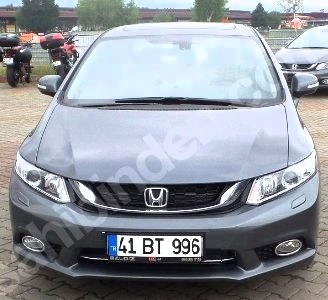plaka: (115, 229, 201, 257)
